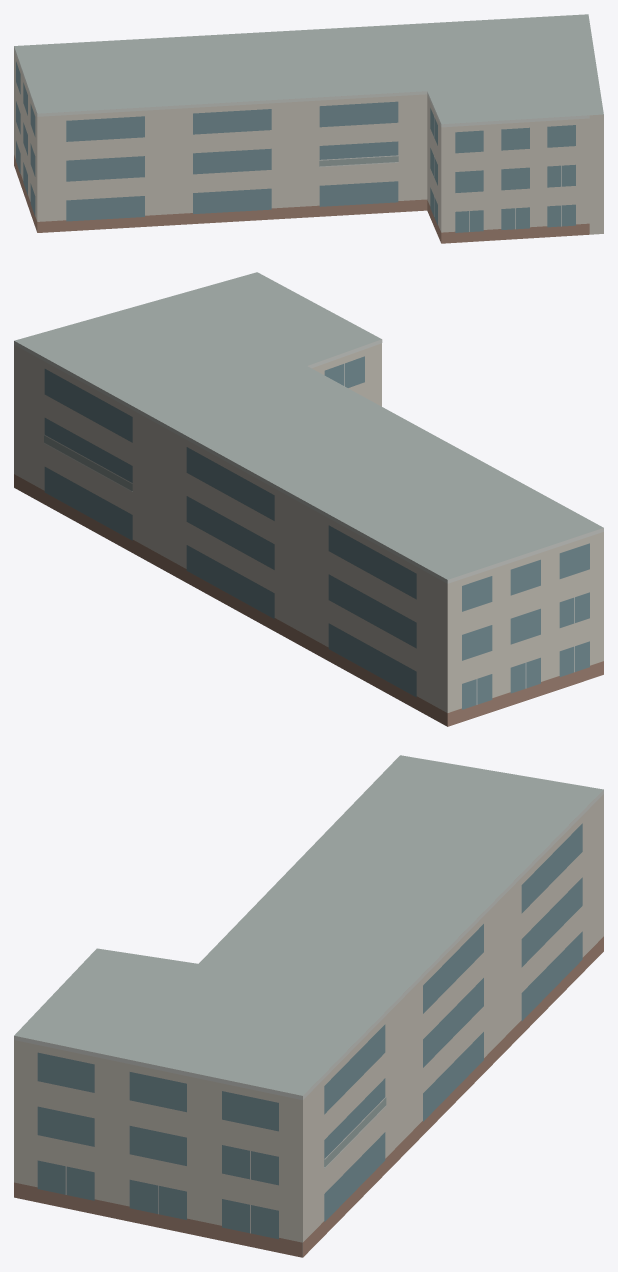
Rendered from survey-upis-33033611.glb.
3 renders of one model, top to bottom at view 1: azimuth 30°, elevation 25°; view 2: azimuth 150°, elevation 25°; view 3: azimuth 270°, elevation 25°, orthographic. The views are drawn at different scales.
Parts seen in each view (by area): view 1: survey-upis-33033611.tmp; view 2: survey-upis-33033611.tmp; view 3: survey-upis-33033611.tmp.
Part boxes in pixels (<box>): survey-upis-33033611.tmp: <box>14,14,603,243</box>; survey-upis-33033611.tmp: <box>14,272,603,726</box>; survey-upis-33033611.tmp: <box>14,755,603,1257</box>.
Size of the model in its own units: 41.33 by 9.15 by 30.23.
